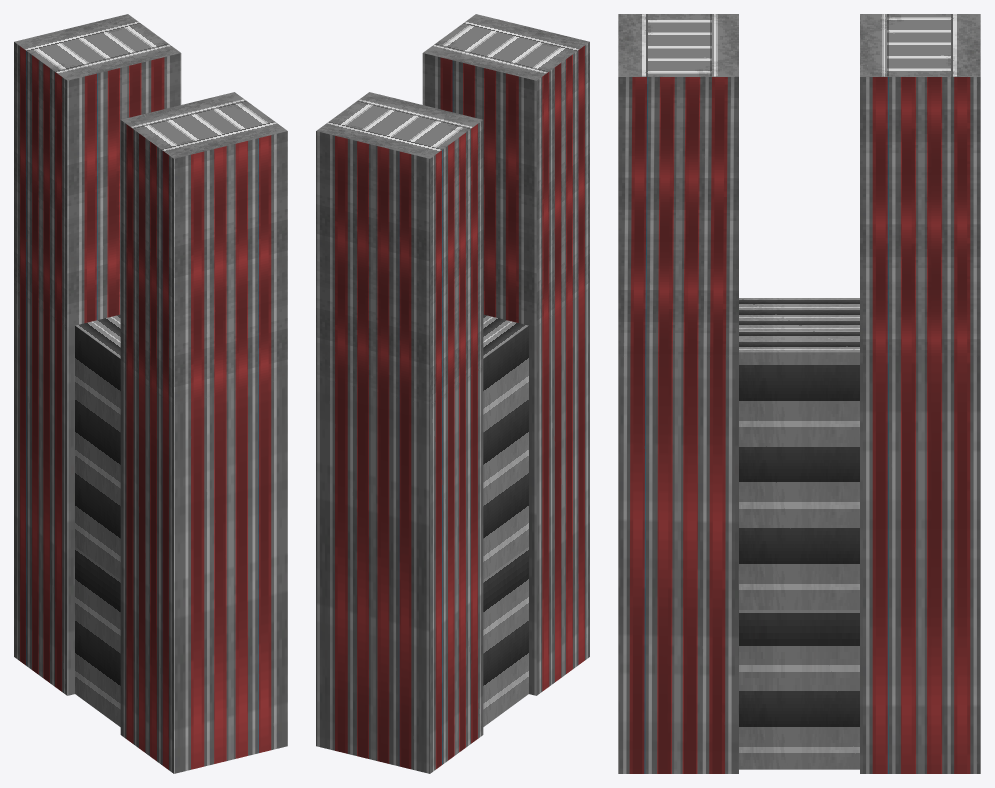
Rendered from building3.glb.
The picture shows the model from 3 angles, left to right: view 1: azimuth 30°, elevation 25°; view 2: azimuth 150°, elevation 25°; view 3: azimuth 270°, elevation 25°; orthographic projection. The views are drawn at different scales.
Visible parts, largest first — view 1: building3; view 2: building3; view 3: building3.
Part boxes in pixels (x1,y1,x2,y2): building3: (14, 14, 287, 773); building3: (316, 14, 589, 773); building3: (618, 14, 980, 773).
Size of the model in its own units: 6.13 by 31.66 by 14.92.
Materials: 4 (4 with a texture image).
